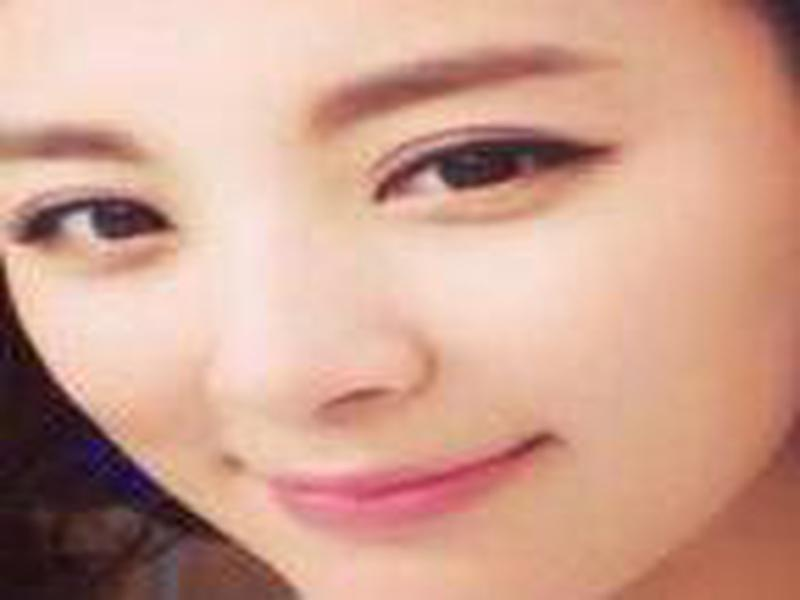without_mask: (6, 1, 800, 600)
